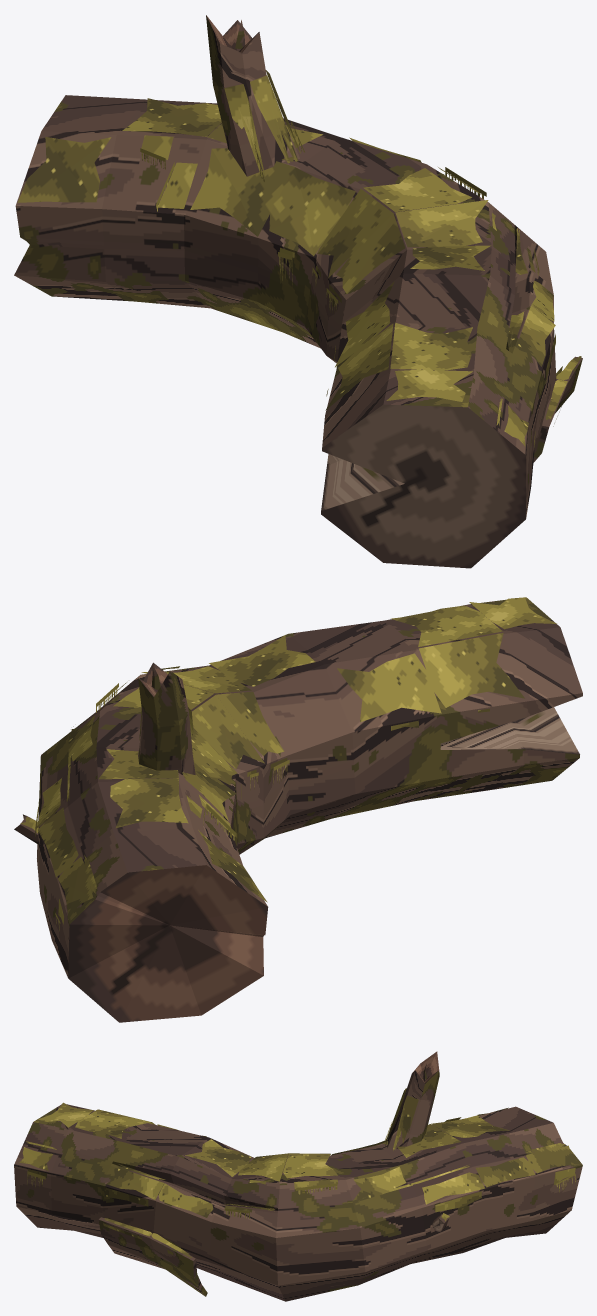
Rendered from SM_SW11_SunkenLogBent.fbx.
3 renders of one model, top to bottom at view 1: azimuth 30°, elevation 25°; view 2: azimuth 150°, elevation 25°; view 3: azimuth 270°, elevation 25°, orthographic. The views are drawn at different scales.
Parts seen in each view (by area): view 1: SW11b_Bark, SW11b_Moss, SW11b_Props, SW11b_Plants; view 2: SW11b_Bark, SW11b_Moss, SW11b_Props, SW11b_Plants; view 3: SW11b_Bark, SW11b_Moss, SW11b_Plants, SW11b_Props.
Part boxes in pixels (left/top/right/bottom): SW11b_Bark: left=14, top=15, right=582, bottom=518; SW11b_Moss: left=17, top=70, right=581, bottom=447; SW11b_Props: left=206, top=15, right=526, bottom=568; SW11b_Plants: left=140, top=121, right=539, bottom=447; SW11b_Bark: left=14, top=597, right=582, bottom=977; SW11b_Moss: left=20, top=597, right=556, bottom=924; SW11b_Props: left=23, top=662, right=579, bottom=1022; SW11b_Plants: left=55, top=683, right=289, bottom=930; SW11b_Bark: left=14, top=1064, right=582, bottom=1301; SW11b_Moss: left=19, top=1088, right=580, bottom=1257; SW11b_Plants: left=27, top=1121, right=575, bottom=1218; SW11b_Props: left=412, top=1051, right=444, bottom=1232.
Bounding box in the file's own units: 1.76 × 1.46 × 3.69.
